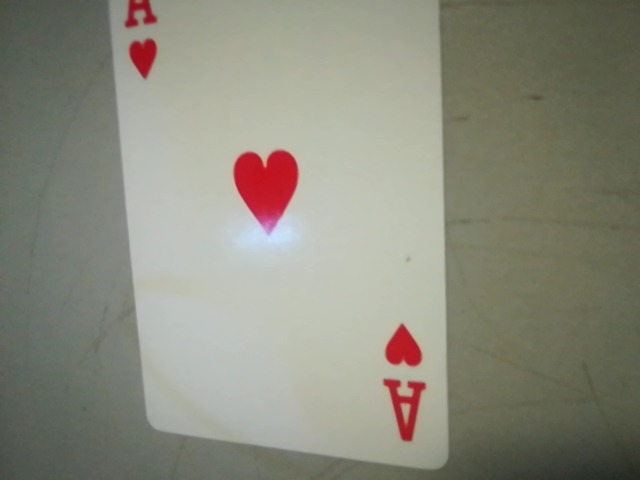hx a: (371, 309, 439, 457)
